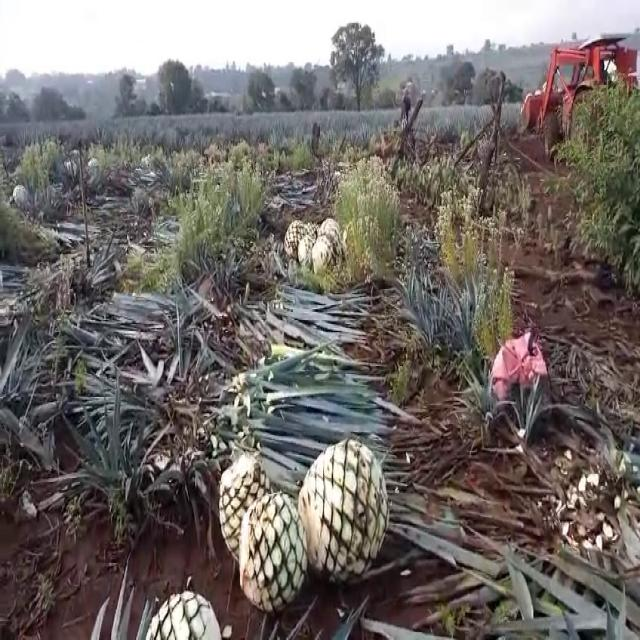agave: (297, 436, 388, 590), (239, 492, 307, 619), (213, 448, 277, 560), (139, 587, 227, 640), (282, 215, 307, 259), (314, 235, 329, 268), (295, 239, 314, 265)
